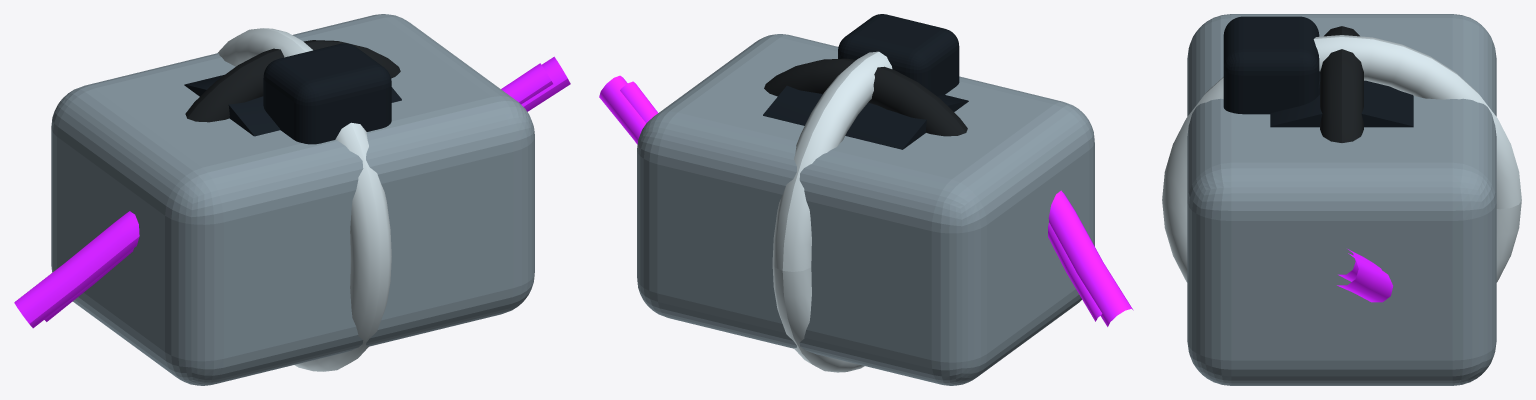
Rendered from electrical_11.glb.
3 views of the same model, side by side, from view 1: azimuth 30°, elevation 25°; view 2: azimuth 150°, elevation 25°; view 3: azimuth 270°, elevation 25° (orthographic). The views are drawn at different scales.
Parts seen in each view (by area): view 1: asset_mesh__electrical_0512__reference_body, asset_mesh__electrical_0509__electrical_connector, asset_mesh__electrical_0503__functional_ring, asset_mesh__electrical_0502__current_path, asset_mesh__electrical_0511__service_element, asset_mesh__electrical_0503__rotor, asset_mesh__electrical_0501__current_path; view 2: asset_mesh__electrical_0512__reference_body, asset_mesh__electrical_0503__functional_ring, asset_mesh__electrical_0509__electrical_connector, asset_mesh__electrical_0511__service_element, asset_mesh__electrical_0502__current_path, asset_mesh__electrical_0503__rotor, asset_mesh__electrical_0501__current_path; view 3: asset_mesh__electrical_0512__reference_body, asset_mesh__electrical_0503__functional_ring, asset_mesh__electrical_0509__electrical_connector, asset_mesh__electrical_0511__service_element, asset_mesh__electrical_0503__rotor, asset_mesh__electrical_0502__current_path.
Part boxes in pixels (bbox=[...]): asset_mesh__electrical_0512__reference_body: bbox=[51, 14, 534, 385]; asset_mesh__electrical_0509__electrical_connector: bbox=[263, 43, 391, 144]; asset_mesh__electrical_0503__functional_ring: bbox=[218, 28, 391, 371]; asset_mesh__electrical_0502__current_path: bbox=[14, 56, 570, 328]; asset_mesh__electrical_0511__service_element: bbox=[185, 40, 400, 122]; asset_mesh__electrical_0503__rotor: bbox=[184, 74, 401, 136]; asset_mesh__electrical_0501__current_path: bbox=[44, 63, 552, 321]; asset_mesh__electrical_0512__reference_body: bbox=[637, 34, 1094, 385]; asset_mesh__electrical_0503__functional_ring: bbox=[772, 51, 892, 372]; asset_mesh__electrical_0509__electrical_connector: bbox=[838, 14, 959, 96]; asset_mesh__electrical_0511__service_element: bbox=[764, 58, 967, 136]; asset_mesh__electrical_0502__current_path: bbox=[599, 75, 1133, 326]; asset_mesh__electrical_0503__rotor: bbox=[763, 85, 968, 149]; asset_mesh__electrical_0501__current_path: bbox=[620, 81, 1102, 321]; asset_mesh__electrical_0512__reference_body: bbox=[1187, 14, 1496, 385]; asset_mesh__electrical_0503__functional_ring: bbox=[1162, 35, 1521, 282]; asset_mesh__electrical_0509__electrical_connector: bbox=[1223, 16, 1319, 114]; asset_mesh__electrical_0511__service_element: bbox=[1320, 26, 1363, 142]; asset_mesh__electrical_0503__rotor: bbox=[1270, 80, 1413, 127]; asset_mesh__electrical_0502__current_path: bbox=[1337, 253, 1392, 302].
Bounding box in the file's own units: 1.64 × 0.9081 × 0.8996.
